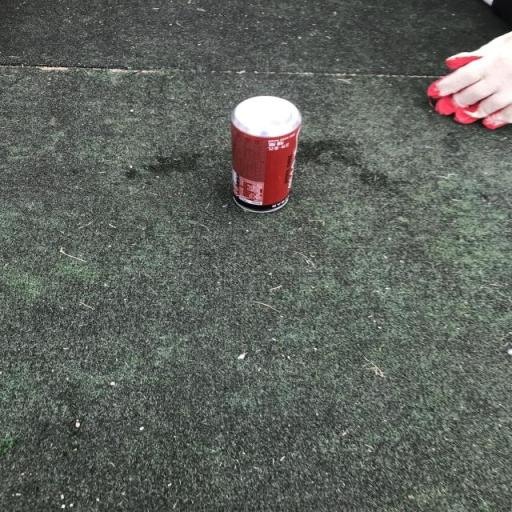metal: (225, 85, 316, 229)
